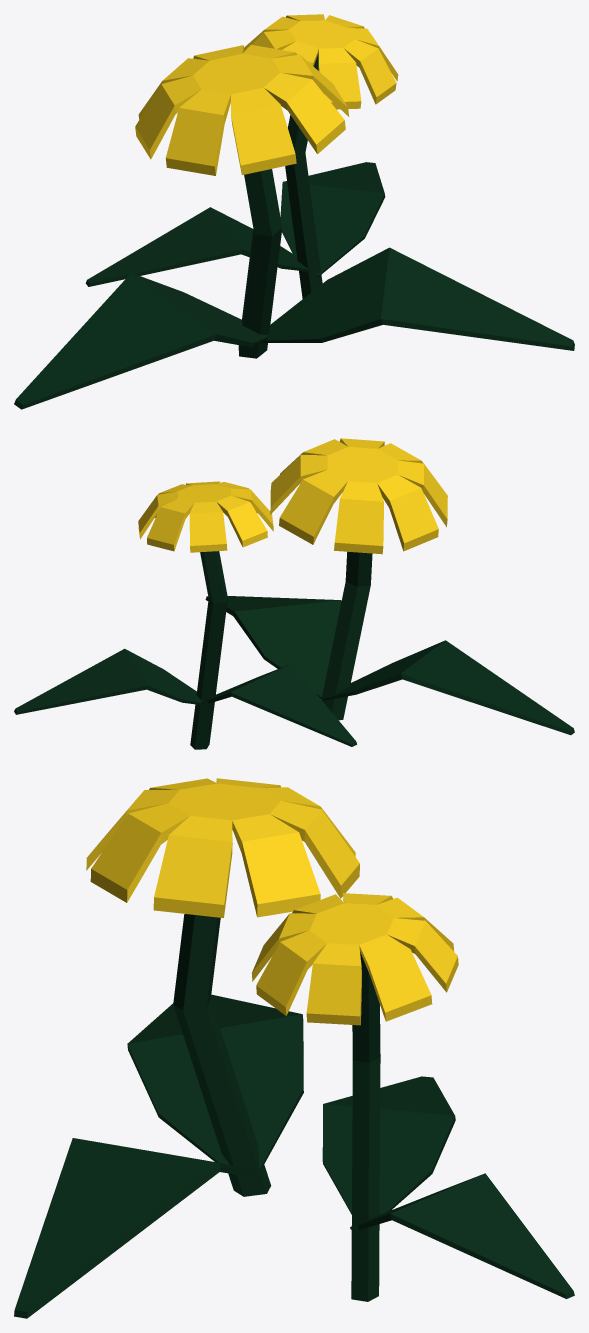
File: Flower_05.obj
The picture shows the model from 3 angles, top to bottom: view 1: azimuth 30°, elevation 25°; view 2: azimuth 150°, elevation 25°; view 3: azimuth 270°, elevation 25°; orthographic projection. The views are drawn at different scales.
Visible parts, largest first — view 1: Flower_05_Cylinder.022; view 2: Flower_05_Cylinder.022; view 3: Flower_05_Cylinder.022.
Part boxes in pixels (<box>): Flower_05_Cylinder.022: <box>14,14,574,409</box>; Flower_05_Cylinder.022: <box>14,438,574,749</box>; Flower_05_Cylinder.022: <box>14,778,574,1318</box>.
Bounding box in the file's own units: 1.87 × 1.15 × 1.4.
